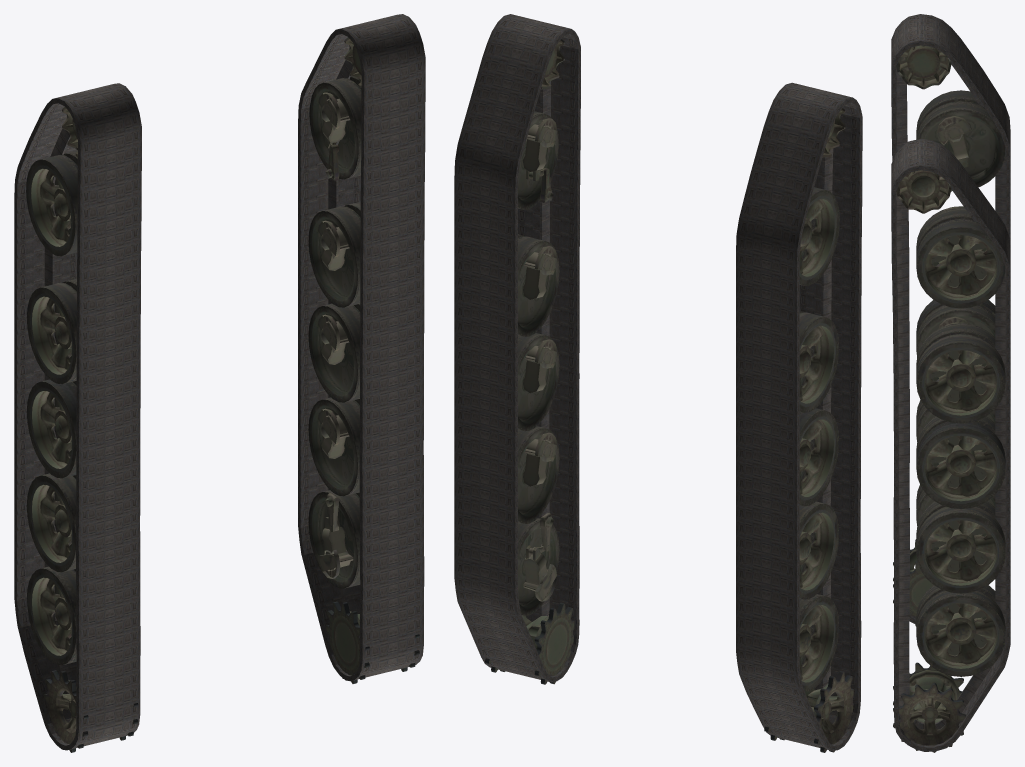
File: Chassis.glb
3 views of the same model, side by side, from view 1: azimuth 30°, elevation 25°; view 2: azimuth 150°, elevation 25°; view 3: azimuth 270°, elevation 25° (orthographic). The views are drawn at different scales.
Parts seen in each view (by area): view 1: set_0_group_0, set_1_group_0, set_3_group_0, set_2_group_0; view 2: set_0_group_0, set_1_group_0, set_3_group_0, set_2_group_0; view 3: set_3_group_0, set_1_group_0, set_2_group_0, set_0_group_0.
Boxes of the visible parts, left/top/right/bottom form: set_0_group_0: left=14, top=83, right=141, bottom=750; set_1_group_0: left=298, top=14, right=425, bottom=681; set_3_group_0: left=308, top=37, right=419, bottom=683; set_2_group_0: left=26, top=107, right=138, bottom=752; set_0_group_0: left=736, top=82, right=862, bottom=750; set_1_group_0: left=454, top=14, right=580, bottom=682; set_3_group_0: left=485, top=39, right=574, bottom=684; set_2_group_0: left=764, top=108, right=853, bottom=752; set_3_group_0: left=893, top=170, right=1005, bottom=752; set_1_group_0: left=891, top=139, right=1010, bottom=751; set_2_group_0: left=893, top=45, right=1005, bottom=626; set_0_group_0: left=891, top=14, right=1010, bottom=624.
Bounding box in the file's own units: 3.25 × 5.87 × 1.08.
Materials: 4 (4 with a texture image).
